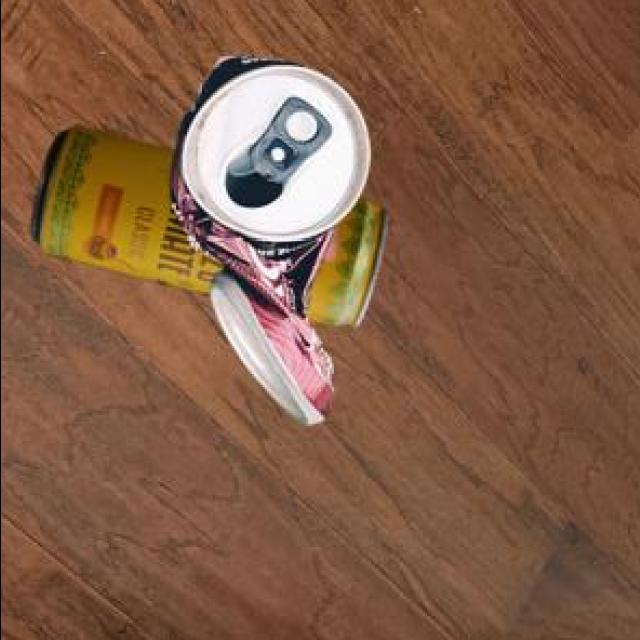logam: (172, 53, 371, 421), (34, 122, 390, 323)
